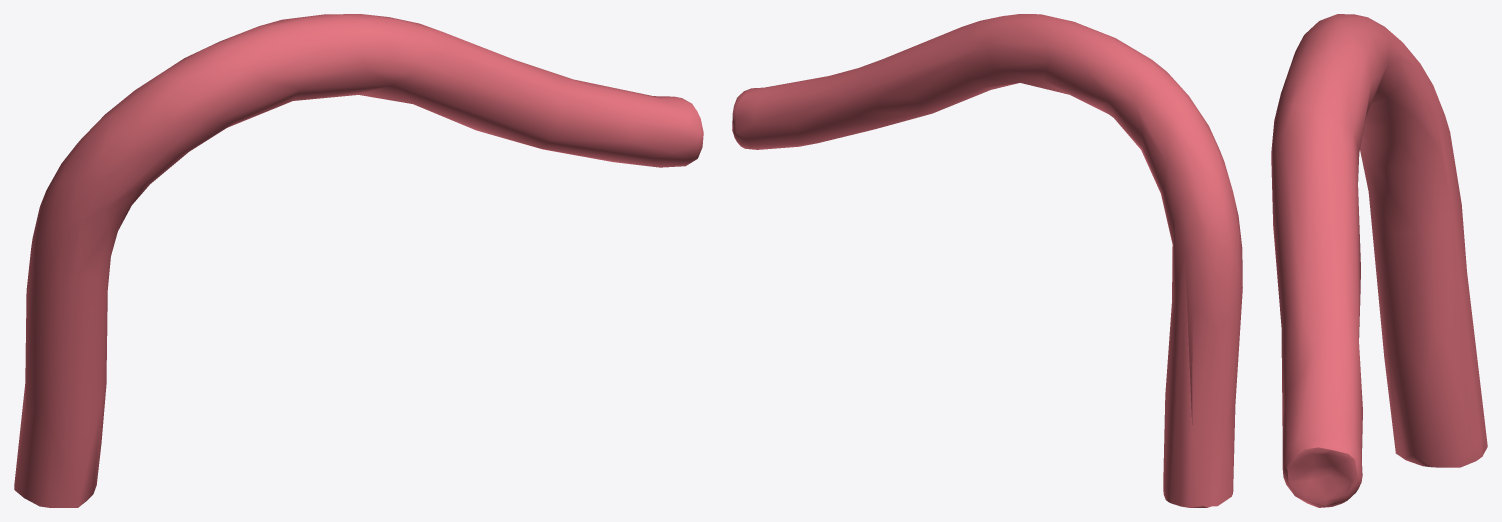
Rendered from fma69319_fj3479.glb.
The picture shows the model from 3 angles, left to right: view 1: azimuth 30°, elevation 25°; view 2: azimuth 150°, elevation 25°; view 3: azimuth 270°, elevation 25°; orthographic projection. The views are drawn at different scales.
Visible parts, largest first — view 1: FMA69319_FJ3479; view 2: FMA69319_FJ3479; view 3: FMA69319_FJ3479.
Part boxes in pixels (bbox=[...]): FMA69319_FJ3479: bbox=[14, 14, 703, 507]; FMA69319_FJ3479: bbox=[732, 14, 1242, 507]; FMA69319_FJ3479: bbox=[1271, 14, 1487, 507].
Bounding box in the file's own units: 0.0689 × 0.0491 × 0.0188.
